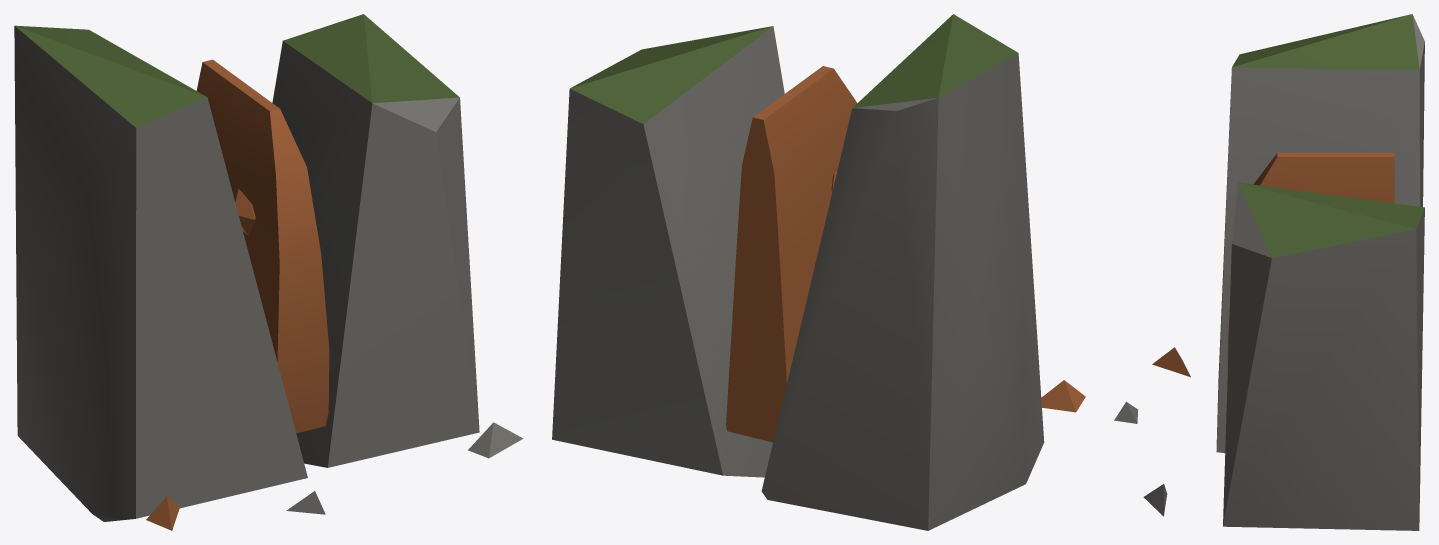
File: MiningCragB.fbx
3 renders of one model, left to right at view 1: azimuth 30°, elevation 25°; view 2: azimuth 150°, elevation 25°; view 3: azimuth 270°, elevation 25°, orthographic. The views are drawn at different scales.
Parts seen in each view (by area): view 1: MiningCragB; view 2: MiningCragB; view 3: MiningCragB.
Boxes of the visible parts, x1=… form: MiningCragB: x1=14, y1=14, x2=523, y2=530; MiningCragB: x1=552, y1=14, x2=1085, y2=530; MiningCragB: x1=1114, y1=14, x2=1424, y2=530.
Size of the model in its own units: 1.5 by 1.65 by 1.19.
